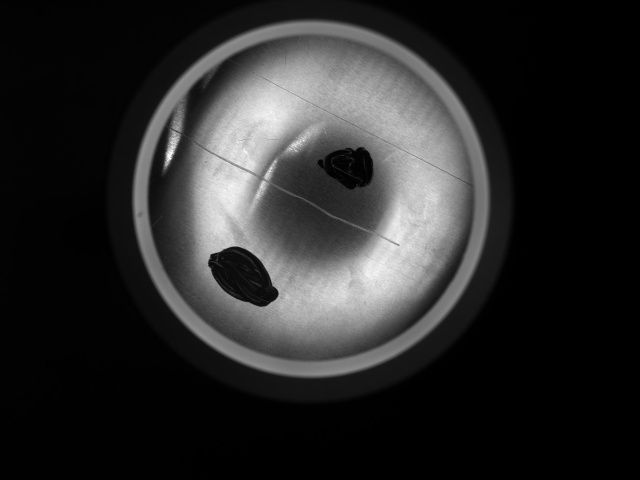ca_shang: (232, 61, 481, 191), (160, 118, 402, 245)
zang_wu: (205, 246, 280, 310), (313, 148, 380, 193)
